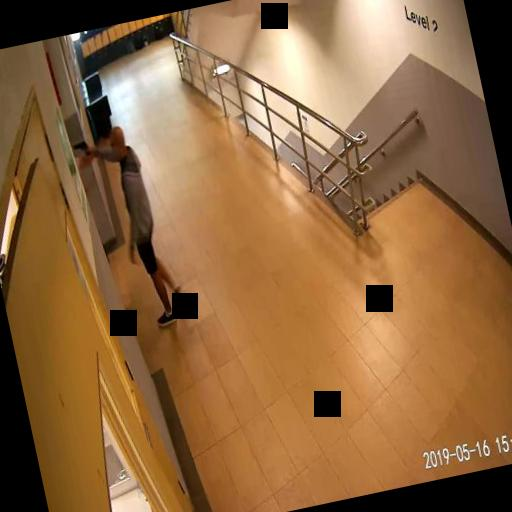Handgun: (71, 139, 88, 157)
